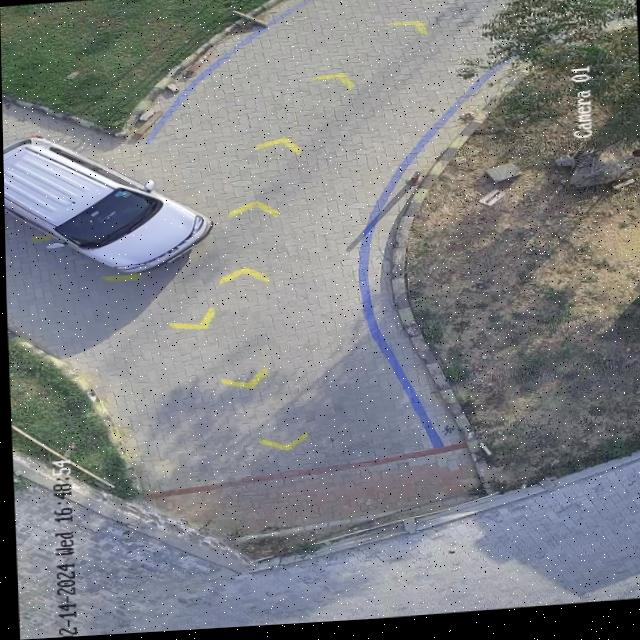car: (3, 136, 210, 282)
